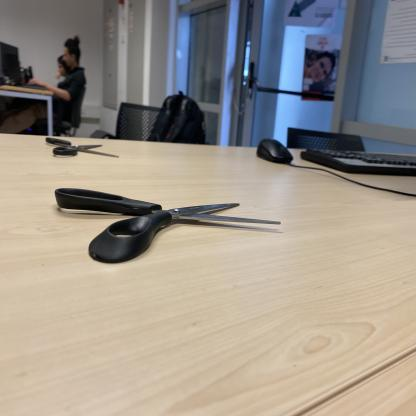scissors: (54, 183, 282, 267), (46, 135, 121, 161)
